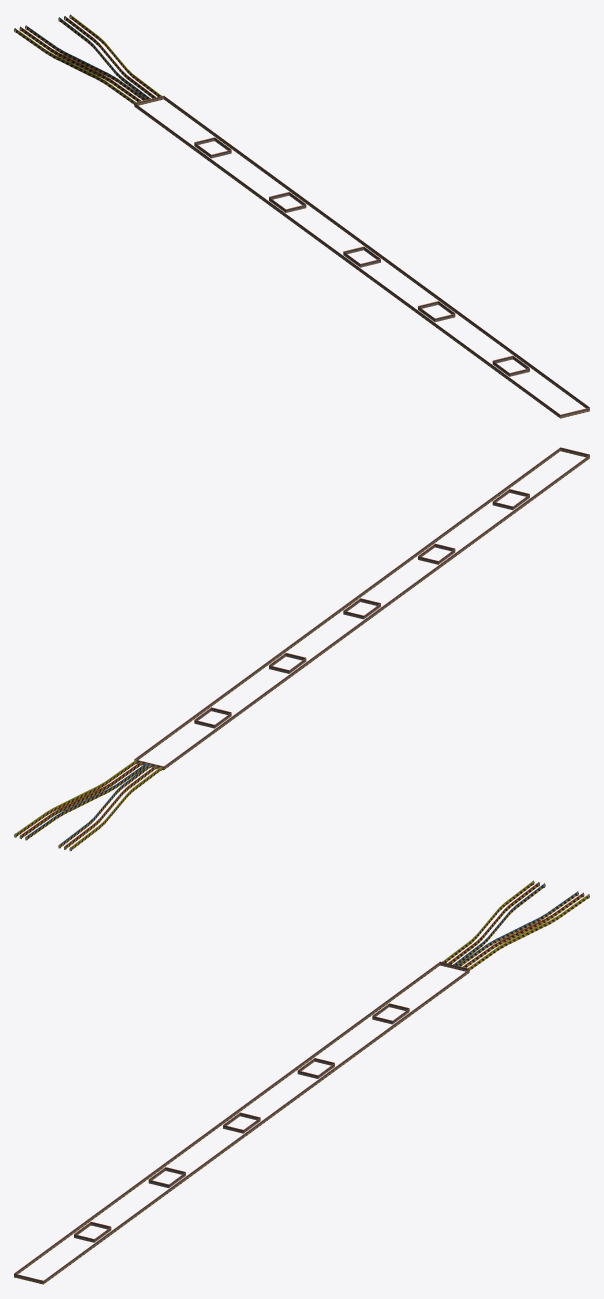
3 views of the same model, one above another, from view 1: azimuth 30°, elevation 25°; view 2: azimuth 150°, elevation 25°; view 3: azimuth 330°, elevation 25° (orthographic).
Visible parts, largest first — view 1: Object_2; view 2: Object_2; view 3: Object_2.
Boxes of the visible parts, box(x1,y1,x2,y2) form: Object_2: box(14, 14, 589, 418); Object_2: box(14, 447, 589, 850); Object_2: box(14, 880, 589, 1284).
Size of the model in its own units: 310 by 20.39 by 5000.
